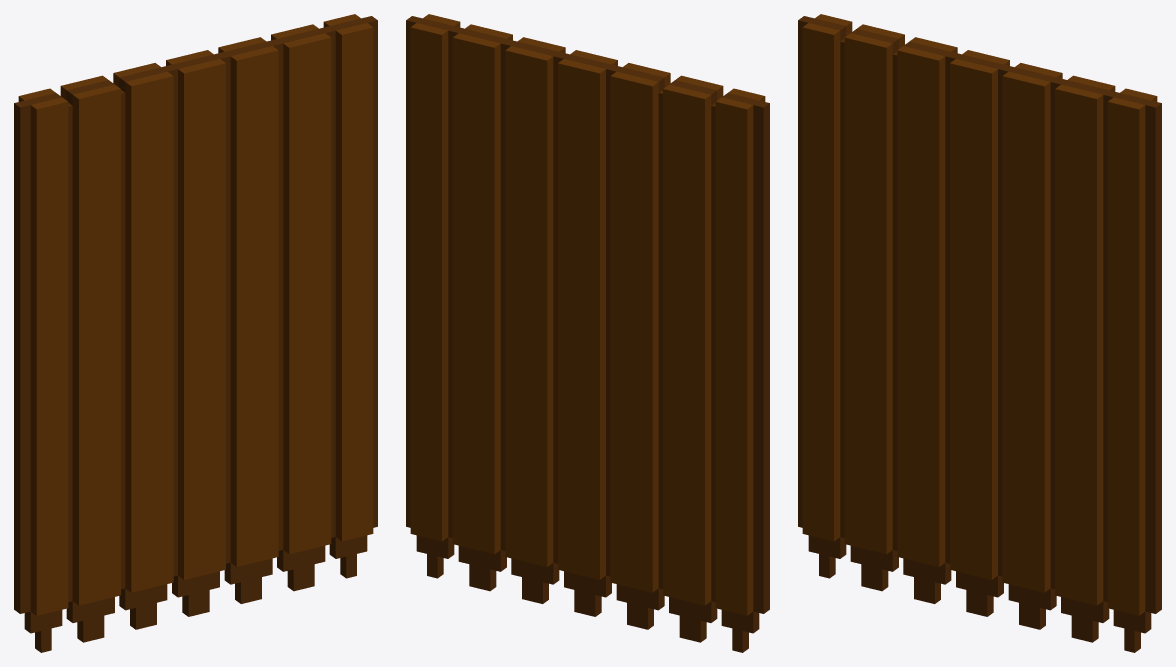
File: CasleWallDoor.obj
The picture shows the model from 3 angles, left to right: view 1: azimuth 30°, elevation 25°; view 2: azimuth 150°, elevation 25°; view 3: azimuth 330°, elevation 25°; orthographic projection.
Bounding box in the file's own units: 34 × 50 × 3.
Materials: 1 (1 with a texture image).
